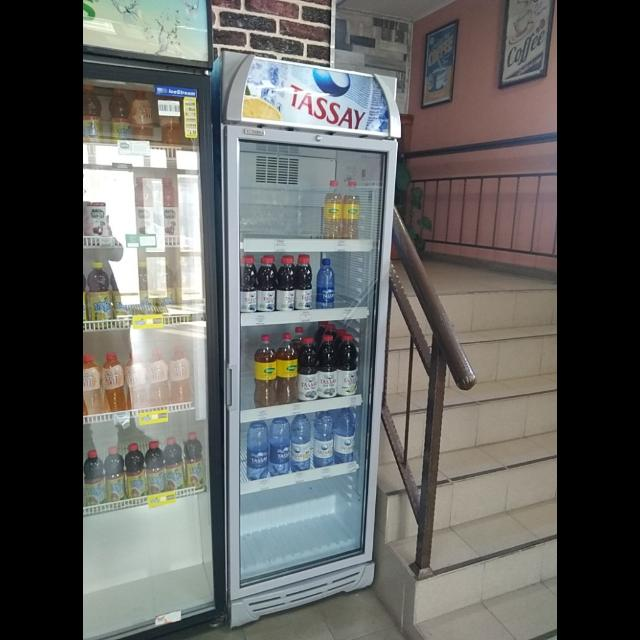Cooling-Display: (218, 49, 402, 629)
